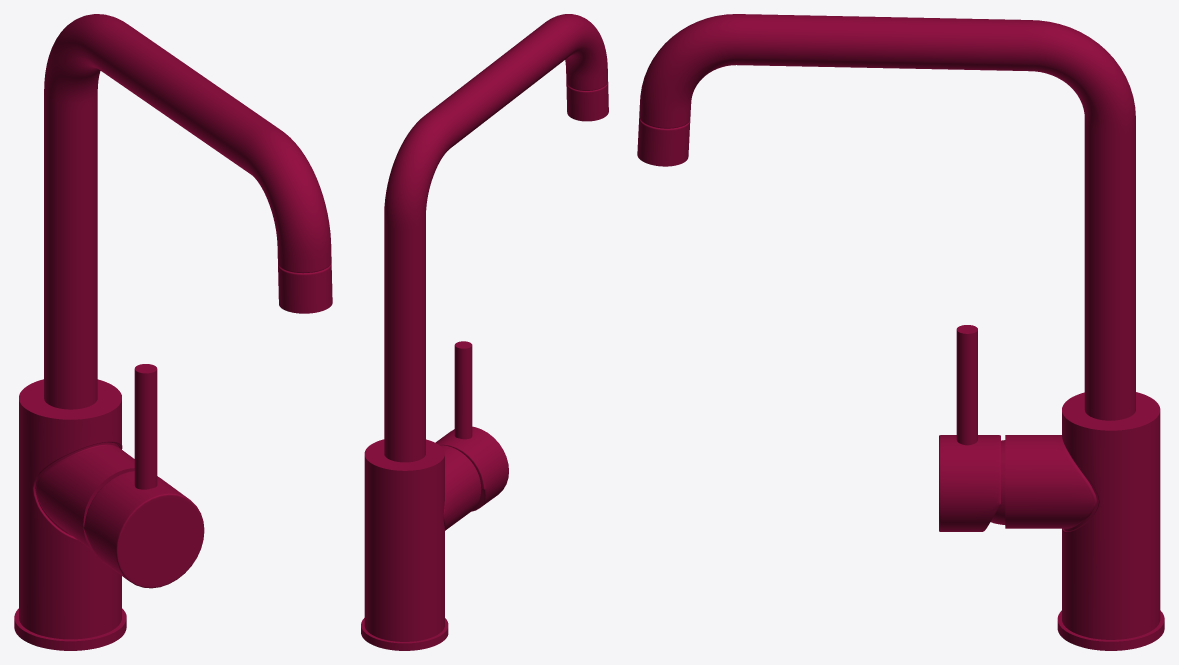
The model's file is tap.obj.
3 renders of one model, left to right at view 1: azimuth 30°, elevation 25°; view 2: azimuth 150°, elevation 25°; view 3: azimuth 270°, elevation 25°, orthographic. The views are drawn at different scales.
Visible parts, largest first — view 1: kitchen_sink_faucet; view 2: kitchen_sink_faucet; view 3: kitchen_sink_faucet.
Boxes of the visible parts, box(x1,y1,x2,y2) form: kitchen_sink_faucet: box(14, 14, 332, 650); kitchen_sink_faucet: box(361, 14, 608, 650); kitchen_sink_faucet: box(637, 14, 1164, 650).
Size of the model in its own units: 49.78 by 314 by 245.
